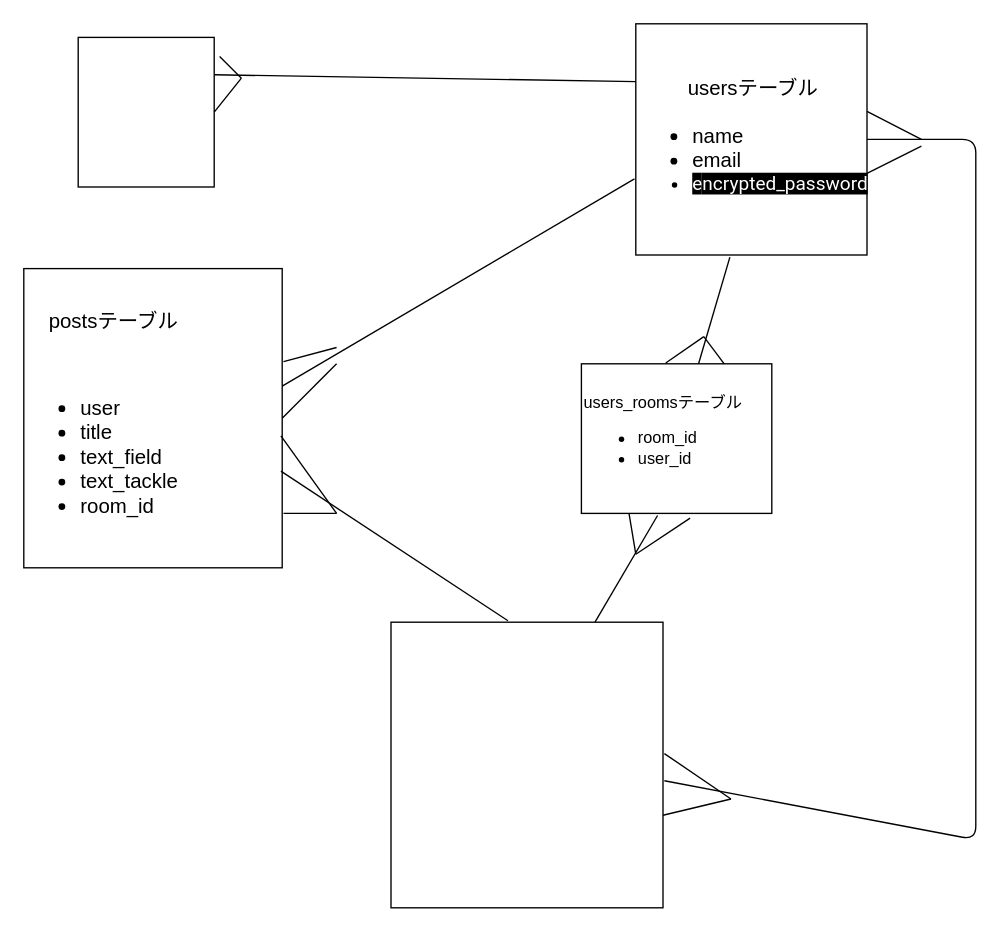
The diagram is 1001 pixels wide and 932 high, and some of its shapes have lost their labels. Here are the shapes that lost their labels. From the top down, the box of each, then its label:
(77, 36, 214, 187): followsテーブル follower_id followed_id
(390, 621, 663, 908): roomsテーブル name
